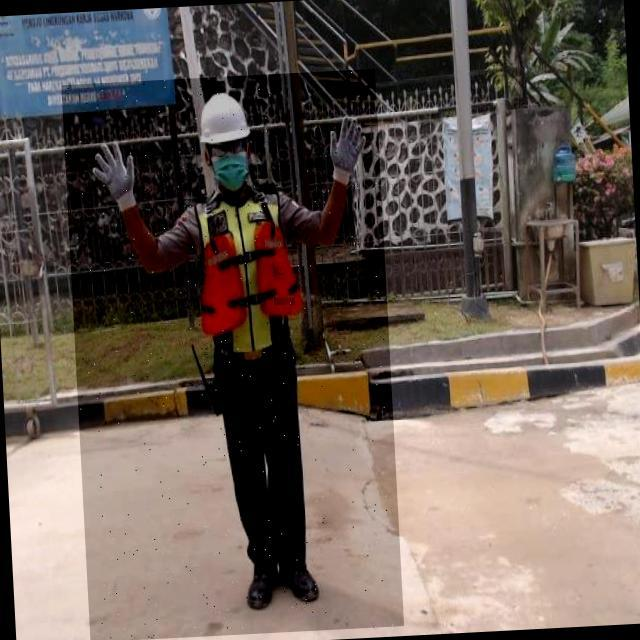Gloves: (88, 128, 154, 226), (320, 104, 376, 192)
Helmet: (195, 91, 253, 149)
Person: (78, 59, 436, 628)
Safety Boot: (276, 554, 321, 611), (246, 560, 282, 613)
Safety Vest: (193, 190, 307, 365)
